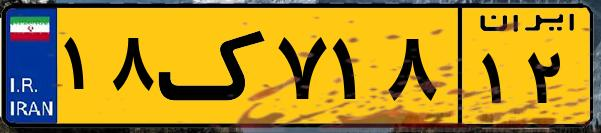1: (330, 28, 385, 110), (57, 26, 110, 100), (475, 38, 525, 113)
2: (525, 38, 570, 115)
7: (270, 28, 330, 110)
8: (385, 28, 445, 110), (110, 28, 158, 98)
ک: (158, 12, 270, 120)
